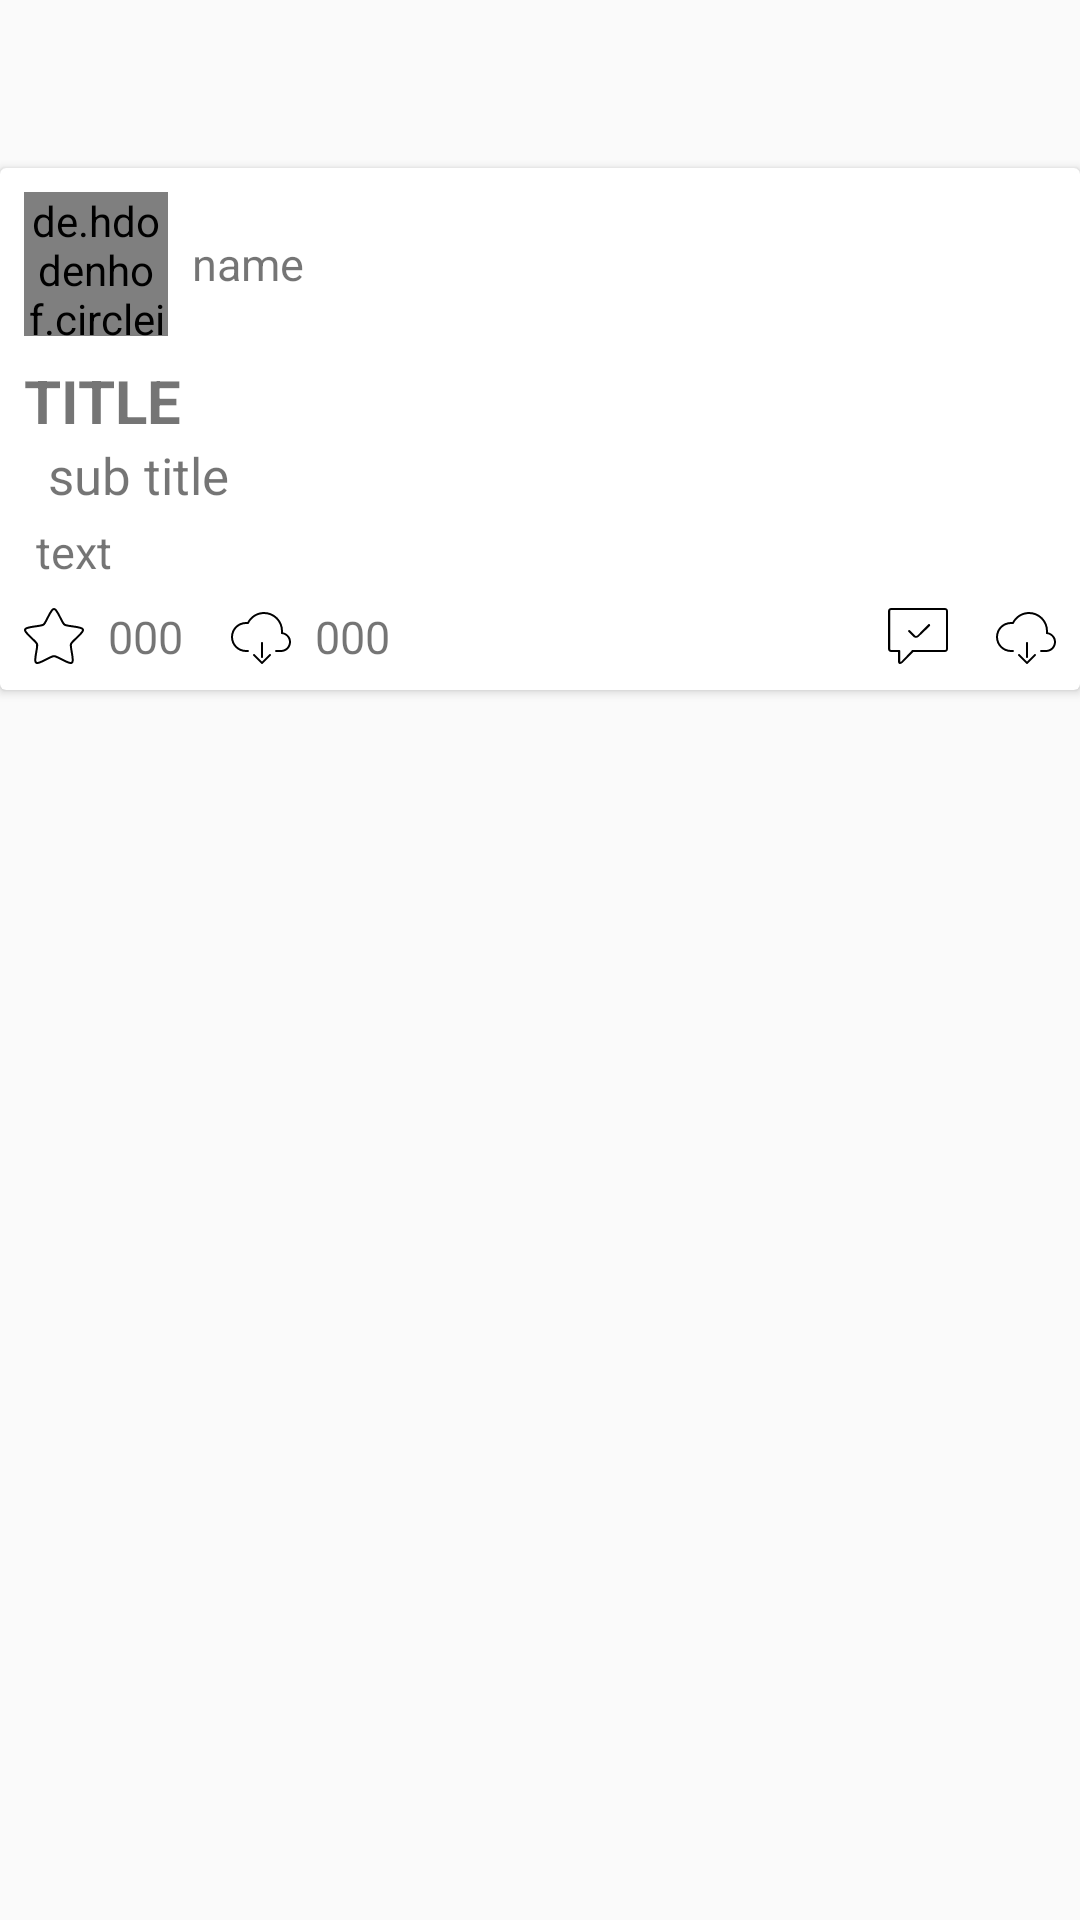

Named icons in this screenshot (1080w x 1920h) and their bounding boxes, BBox(x1, y1, x2, y2):
mbri cust feedback: BBox(888, 608, 948, 664)
mbri download: BBox(231, 612, 291, 664), BBox(996, 612, 1056, 664)
mbri star: BBox(24, 608, 84, 664)
